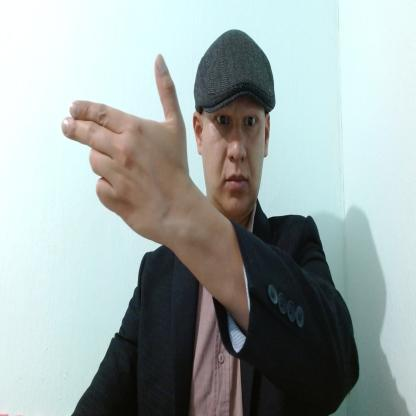H: (62, 52, 188, 243)
